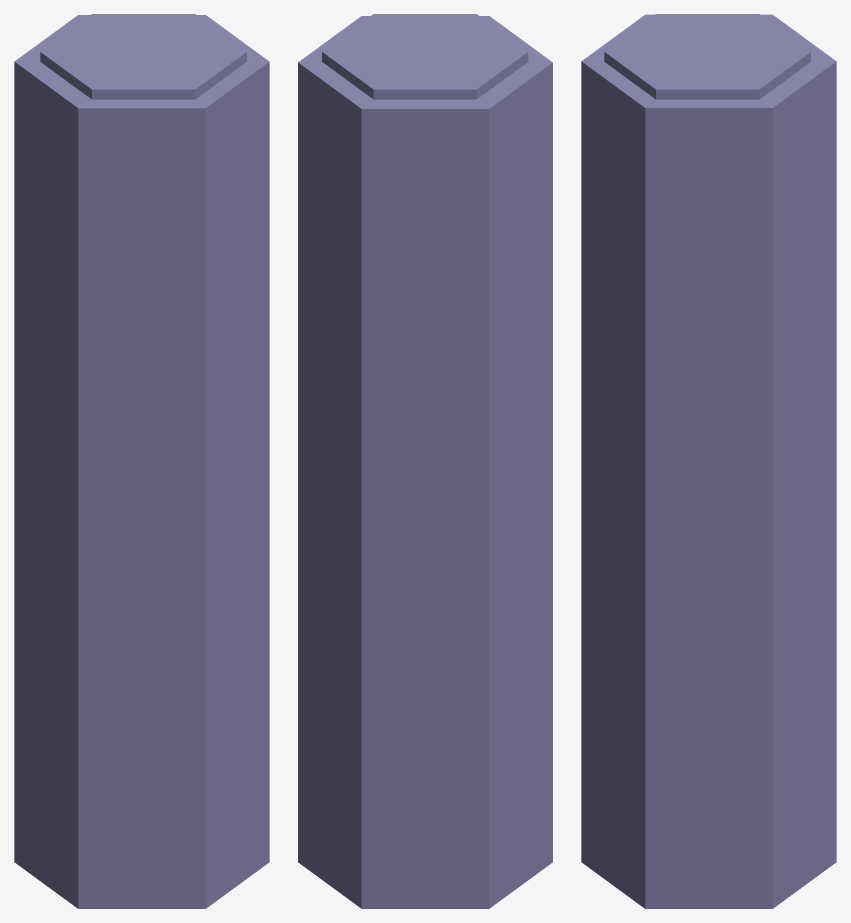
File: Untitled-1-last_try.glb
3 views of the same model, side by side, from view 1: azimuth 30°, elevation 25°; view 2: azimuth 150°, elevation 25°; view 3: azimuth 270°, elevation 25° (orthographic).
Visible parts, largest first — view 1: mergedBlocks(Clone); view 2: mergedBlocks(Clone); view 3: mergedBlocks(Clone).
Part boxes in pixels (box(x1,y1,x2,y2)): mergedBlocks(Clone): box(14, 14, 269, 908); mergedBlocks(Clone): box(298, 14, 552, 908); mergedBlocks(Clone): box(581, 14, 836, 908).
Bounding box in the file's own units: 1 × 4.05 × 1.15.
